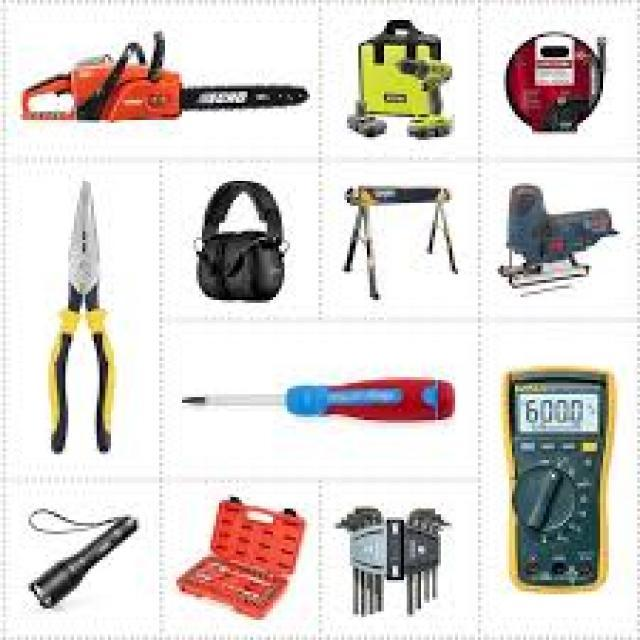pliers: (28, 174, 122, 457)
screwdriver: (175, 364, 466, 440)
